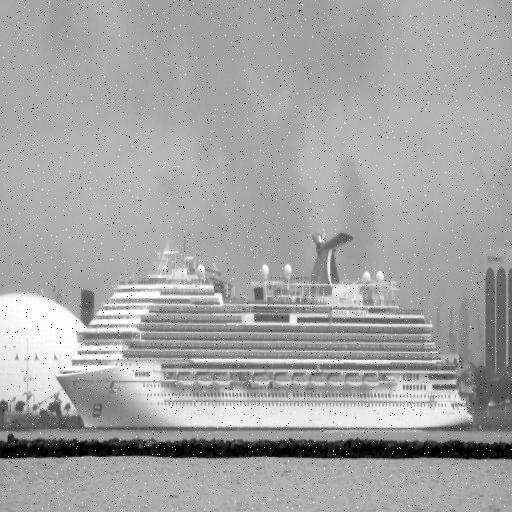cruises: (51, 227, 480, 439)
